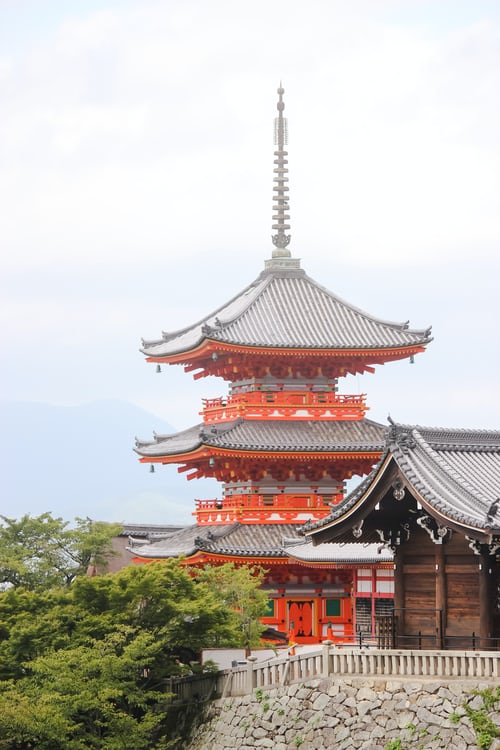Temple: (138, 80, 432, 613)
